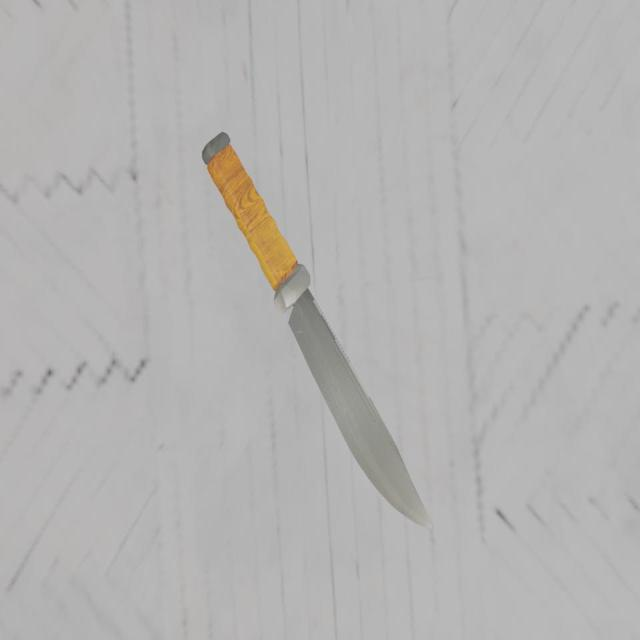knife: (208, 132, 304, 306)
